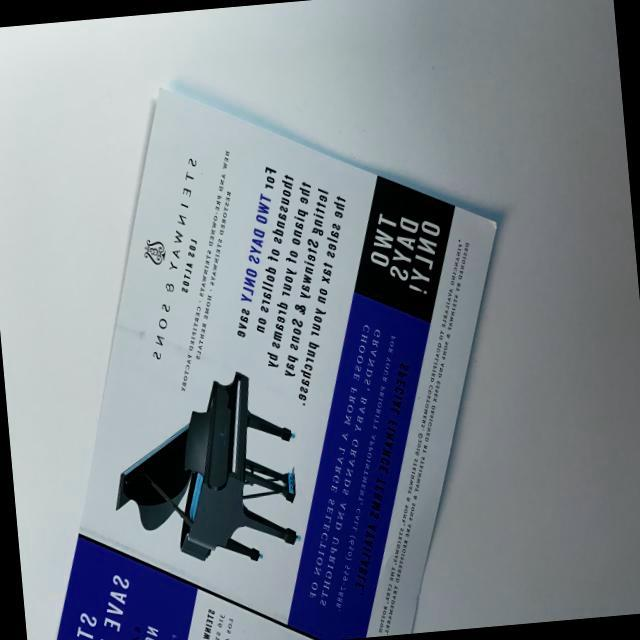paper: (0, 52, 534, 640)
